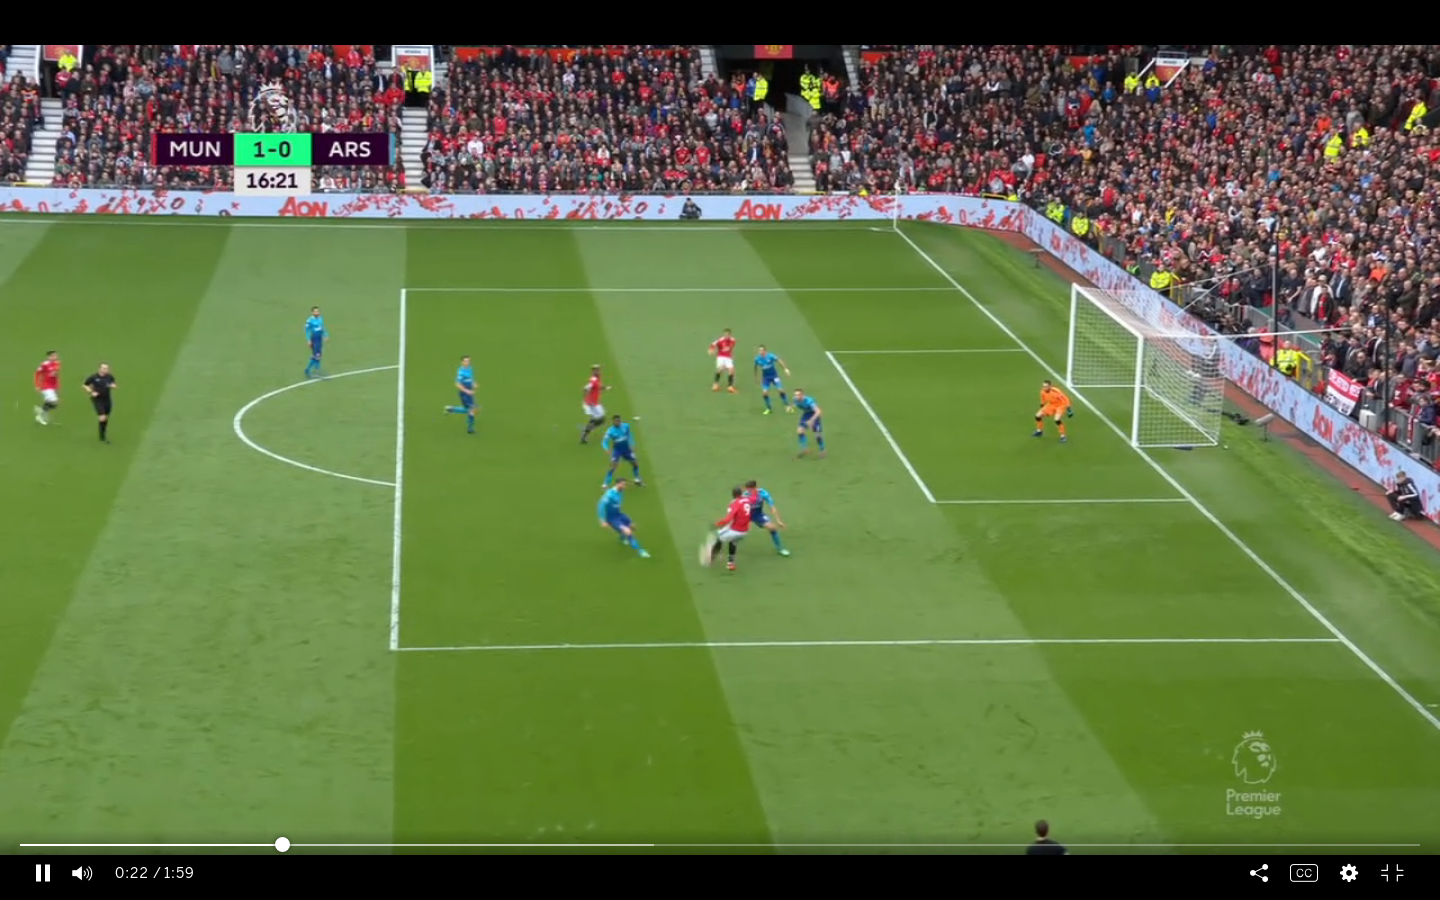referee: (78, 362, 119, 442)
soccer player: (596, 474, 655, 566), (441, 348, 484, 445), (745, 342, 796, 420), (713, 483, 755, 574), (702, 329, 745, 399), (607, 411, 645, 489), (581, 362, 613, 451), (32, 349, 67, 429), (792, 385, 828, 460), (1033, 379, 1076, 440), (299, 306, 333, 380)
soccerball: (692, 540, 716, 568)
